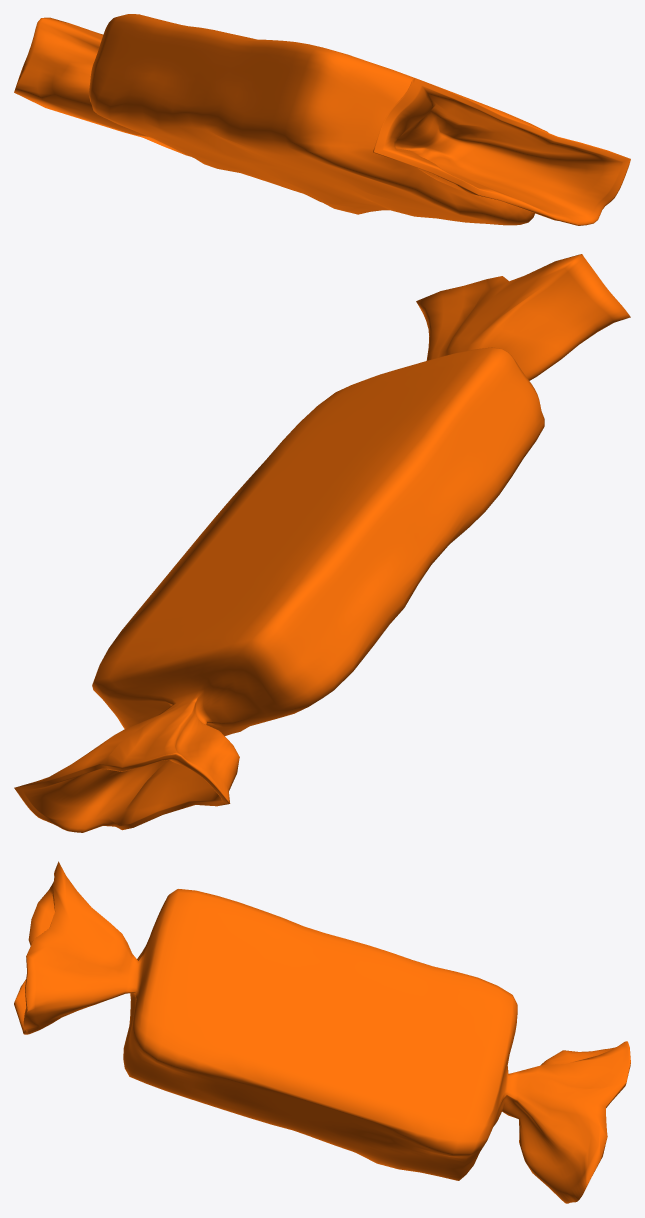
File: Candy.gltf
The picture shows the model from 3 angles, top to bottom: view 1: azimuth 30°, elevation 25°; view 2: azimuth 150°, elevation 25°; view 3: azimuth 270°, elevation 25°; orthographic projection. The views are drawn at different scales.
Visible parts, largest first — view 1: Cube; view 2: Cube; view 3: Cube.
Part boxes in pixels (x1=…): Cube: x1=14, y1=14, x2=630, y2=225; Cube: x1=14, y1=254, x2=630, y2=832; Cube: x1=14, y1=861, x2=630, y2=1203.
Size of the model in its own units: 0.2499 by 0.3357 by 0.6739.
